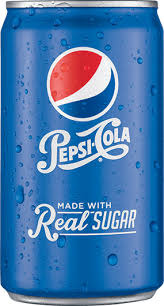pepsi: (1, 1, 164, 299)
